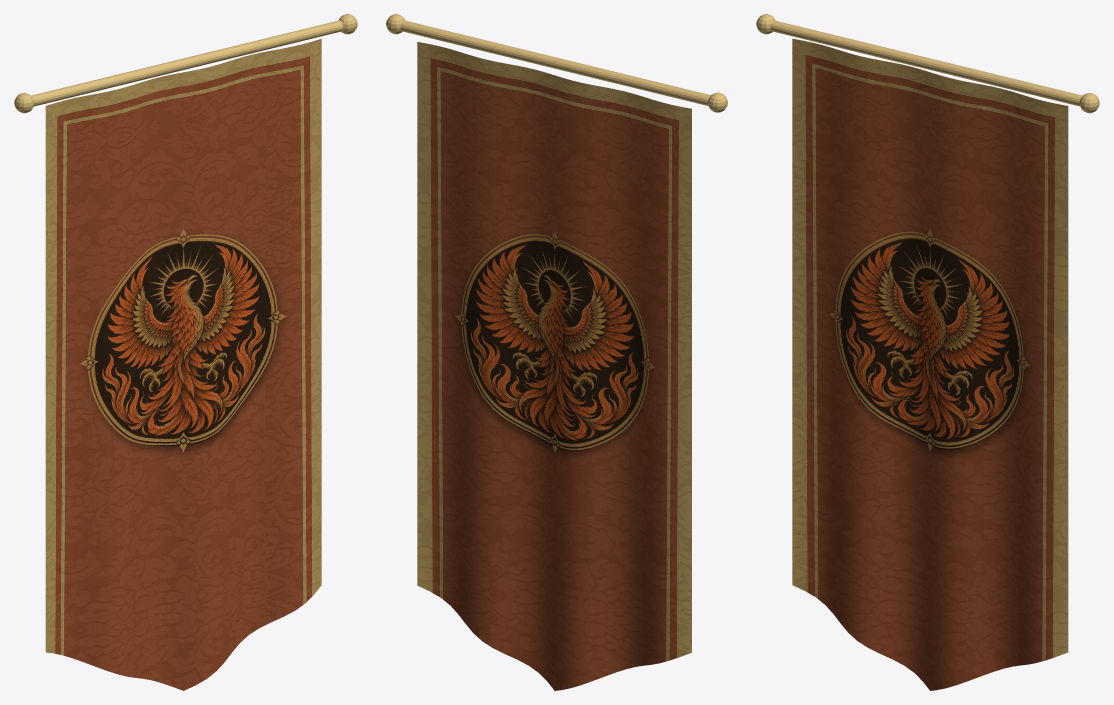
File: banner_h3.glb
3 views of the same model, side by side, from view 1: azimuth 30°, elevation 25°; view 2: azimuth 150°, elevation 25°; view 3: azimuth 330°, elevation 25° (orthographic).
Visible parts, largest first — view 1: banner_h3; view 2: banner_h3; view 3: banner_h3.
Part boxes in pixels (box(x1,y1,x2,y2)): banner_h3: box(14, 14, 357, 690); banner_h3: box(386, 14, 727, 690); banner_h3: box(756, 14, 1099, 690).
Size of the model in its own units: 1.73 by 3.1 by 0.1.
2 materials, 1 textured.
